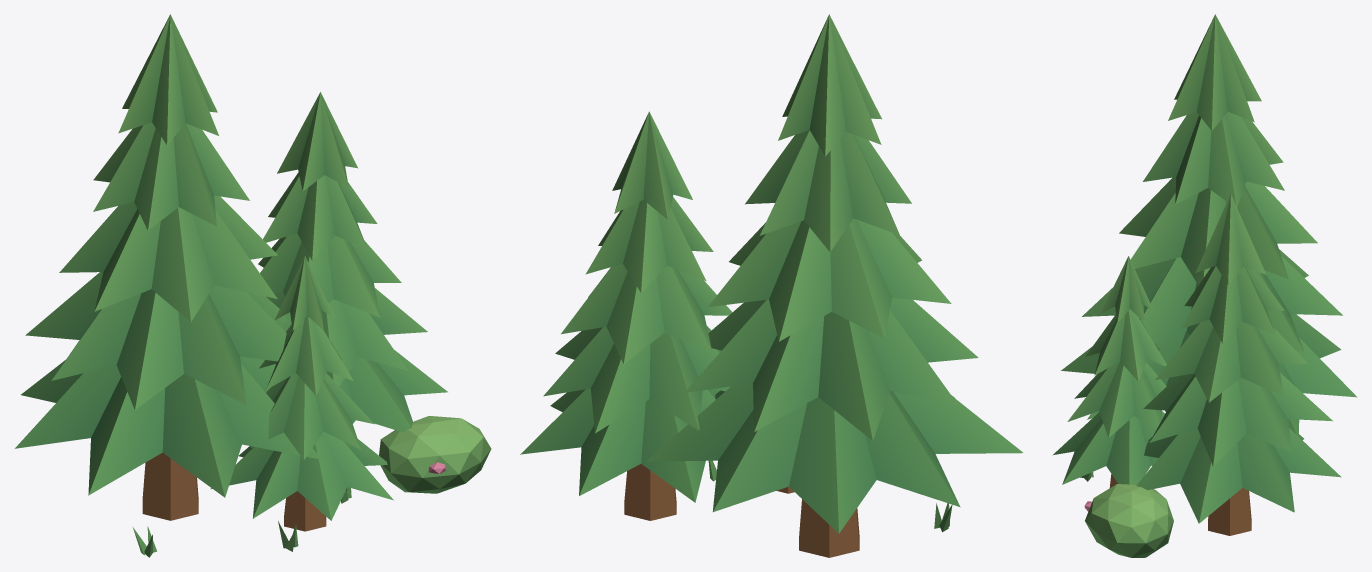
Rendered from ranch_pine_cluster.fbx.
3 views of the same model, side by side, from view 1: azimuth 30°, elevation 25°; view 2: azimuth 150°, elevation 25°; view 3: azimuth 270°, elevation 25° (orthographic). The views are drawn at different scales.
Parts seen in each view (by area): view 1: ranch_pine_cluster; view 2: ranch_pine_cluster; view 3: ranch_pine_cluster.
Part boxes in pixels (x1,y1,x2,y2): ranch_pine_cluster: (14,14,491,557); ranch_pine_cluster: (520,14,1023,557); ranch_pine_cluster: (1052,14,1356,557).
Bounding box in the file's own units: 14.18 × 16.43 × 10.24.
